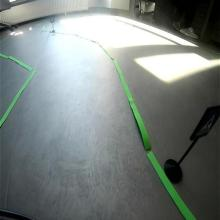crosswalk: (191, 105, 219, 139)
